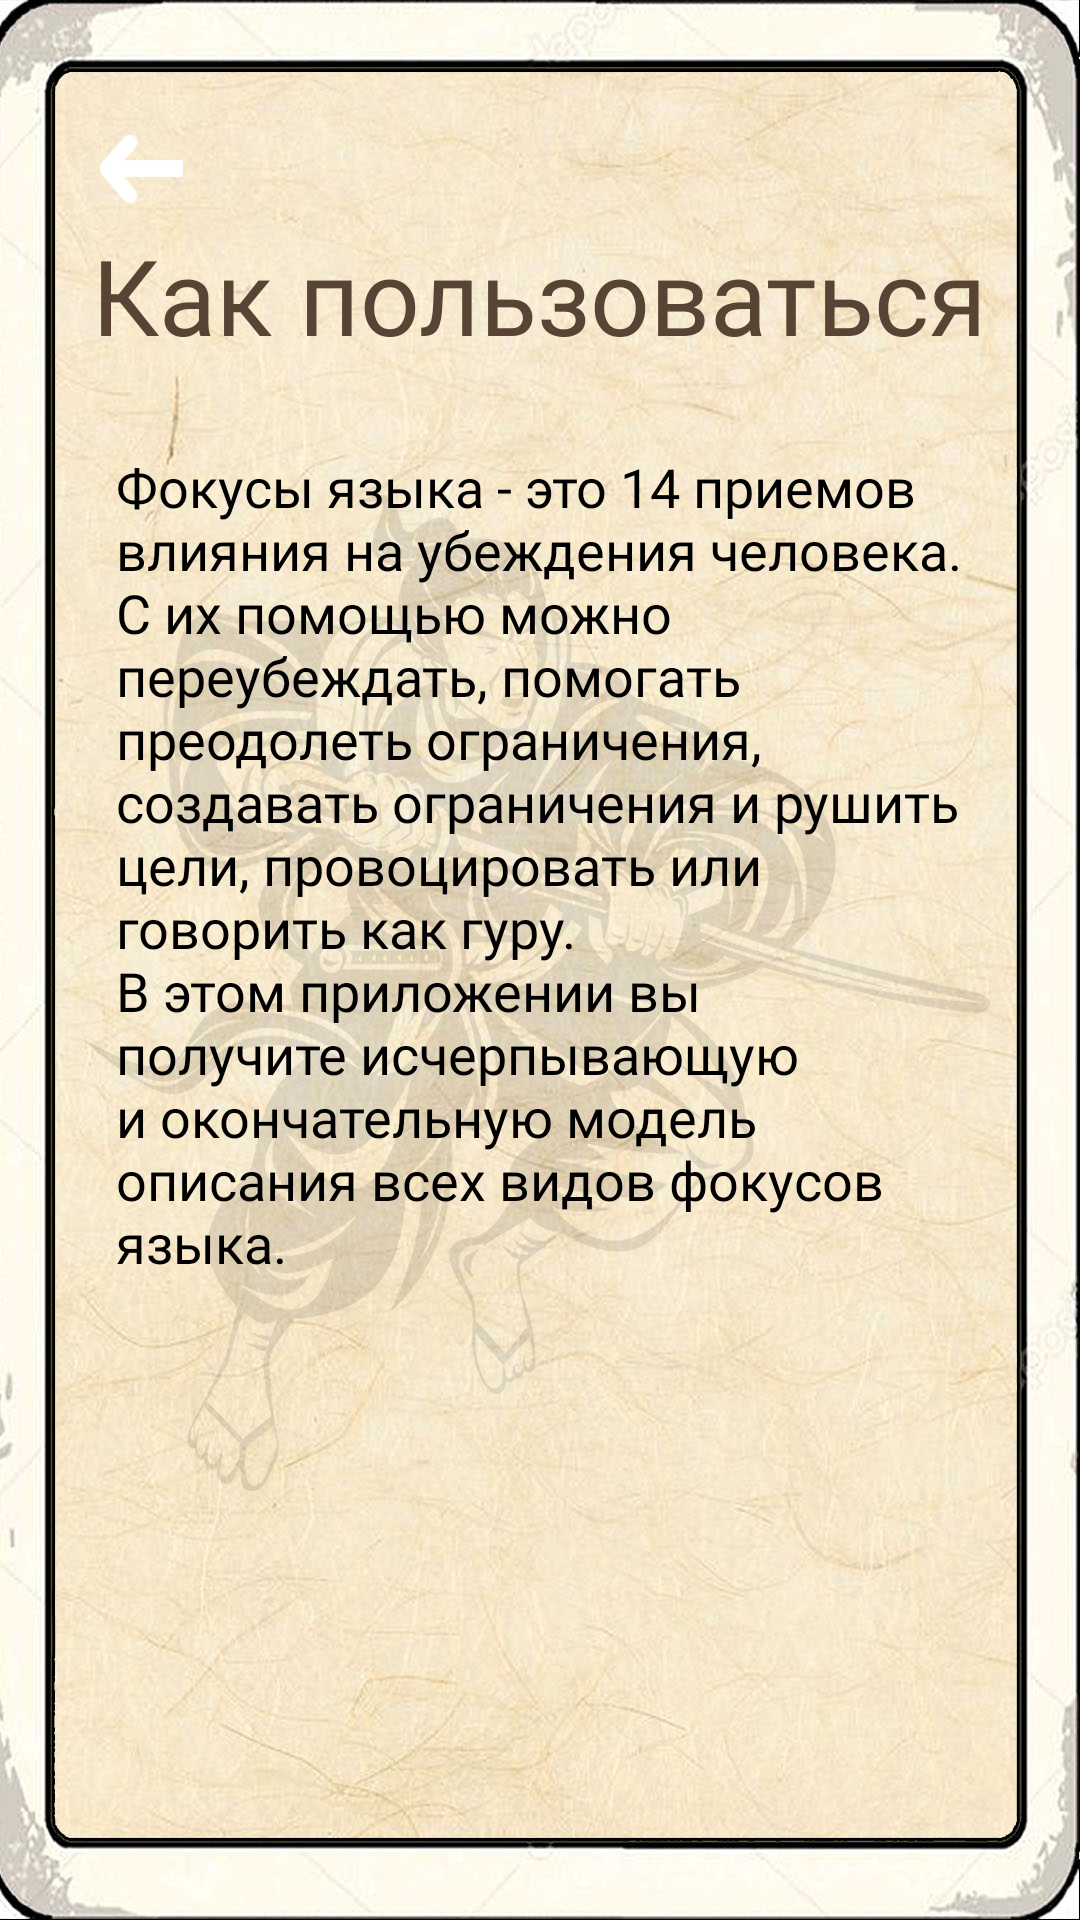

Locate icon controls on the screen. Image size 1080 x 1920, boxes as (x1,y1,x2,y2).
arrow back: (100,135,183,203)
